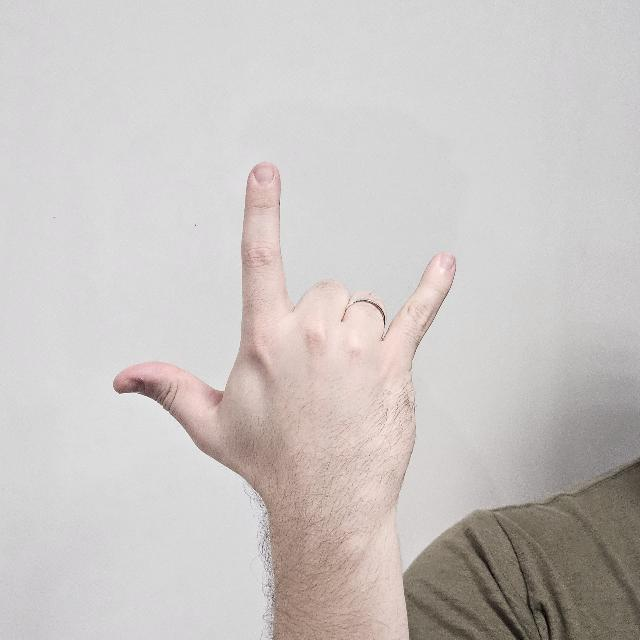Cima: (104, 158, 456, 524)
